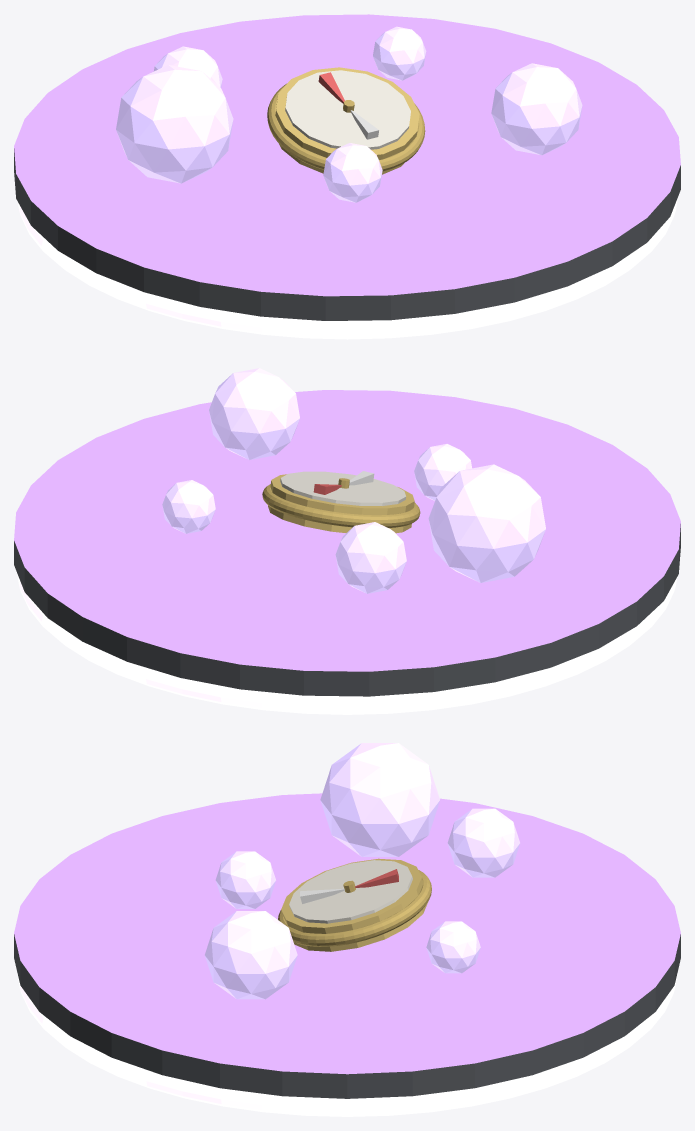
File: ARScene_plateform_violet.glb
The picture shows the model from 3 angles, top to bottom: view 1: azimuth 30°, elevation 25°; view 2: azimuth 150°, elevation 25°; view 3: azimuth 270°, elevation 25°; orthographic projection.
Parts seen in each view (by area): view 1: Cylinder_Violet, Ring_Violet.001, Prim_Sphere_Main, Compass_Face, Sphere_Small_3, Sphere_Small_2, Compass_Body, Sphere_Small_1, Compass_Rim, Sphere_Small_0; view 2: Cylinder_Violet, Ring_Violet.001, Prim_Sphere_Main, Sphere_Small_3, Sphere_Small_0, Compass_Face, Compass_Body, Sphere_Small_1, Compass_Rim, Sphere_Small_2; view 3: Cylinder_Violet, Ring_Violet.001, Prim_Sphere_Main, Sphere_Small_3, Compass_Face, Sphere_Small_0, Compass_Body, Sphere_Small_2, Compass_Rim, Sphere_Small_1.
Boxes of the visible parts, x1=… form: Cylinder_Violet: x1=14, y1=14, x2=680, y2=320; Ring_Violet.001: x1=18, y1=198, x2=677, y2=339; Prim_Sphere_Main: x1=116, y1=65, x2=233, y2=183; Compass_Face: x1=285, y1=70, x2=410, y2=149; Sphere_Small_3: x1=491, y1=63, x2=582, y2=155; Sphere_Small_2: x1=323, y1=143, x2=382, y2=202; Compass_Body: x1=275, y1=67, x2=419, y2=174; Sphere_Small_1: x1=373, y1=26, x2=426, y2=80; Compass_Rim: x1=267, y1=83, x2=425, y2=171; Sphere_Small_0: x1=153, y1=46, x2=222, y2=87; Cylinder_Violet: x1=14, y1=390, x2=680, y2=696; Ring_Violet.001: x1=17, y1=574, x2=677, y2=714; Prim_Sphere_Main: x1=428, y1=464, x2=545, y2=582; Sphere_Small_3: x1=209, y1=368, x2=299, y2=459; Sphere_Small_0: x1=335, y1=522, x2=406, y2=593; Compass_Face: x1=280, y1=471, x2=406, y2=505; Compass_Body: x1=268, y1=474, x2=414, y2=533; Sphere_Small_1: x1=162, y1=480, x2=215, y2=533; Compass_Rim: x1=262, y1=484, x2=420, y2=527; Sphere_Small_2: x1=414, y1=444, x2=471, y2=500; Cylinder_Violet: x1=14, y1=793, x2=680, y2=1098; Ring_Violet.001: x1=17, y1=974, x2=677, y2=1116; Prim_Sphere_Main: x1=320, y1=743, x2=439, y2=856; Sphere_Small_3: x1=204, y1=911, x2=297, y2=999; Compass_Face: x1=289, y1=860, x2=412, y2=923; Sphere_Small_0: x1=447, y1=808, x2=520, y2=877; Compass_Body: x1=281, y1=858, x2=428, y2=951; Sphere_Small_2: x1=215, y1=851, x2=275, y2=908; Compass_Rim: x1=278, y1=870, x2=431, y2=946; Sphere_Small_1: x1=426, y1=921, x2=480, y2=973.
Size of the model in its own units: 2.2 by 0.5808 by 2.2.
